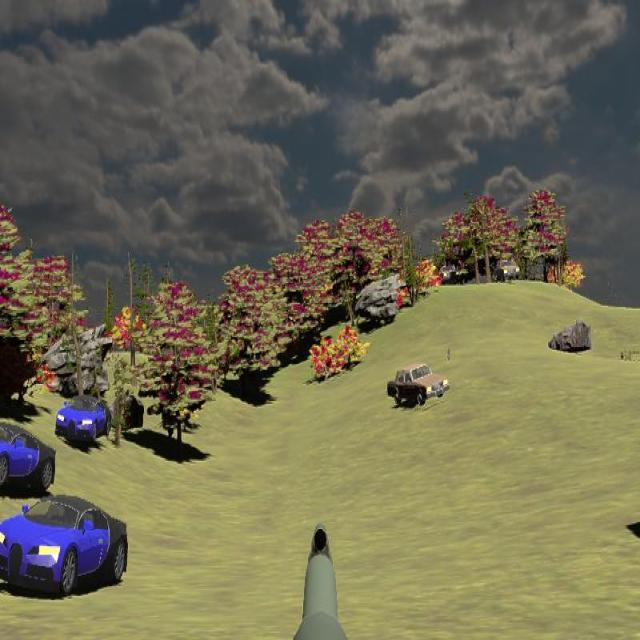car: (0, 494, 129, 598), (0, 420, 56, 496), (55, 394, 111, 448), (387, 362, 449, 408), (494, 257, 520, 283)
